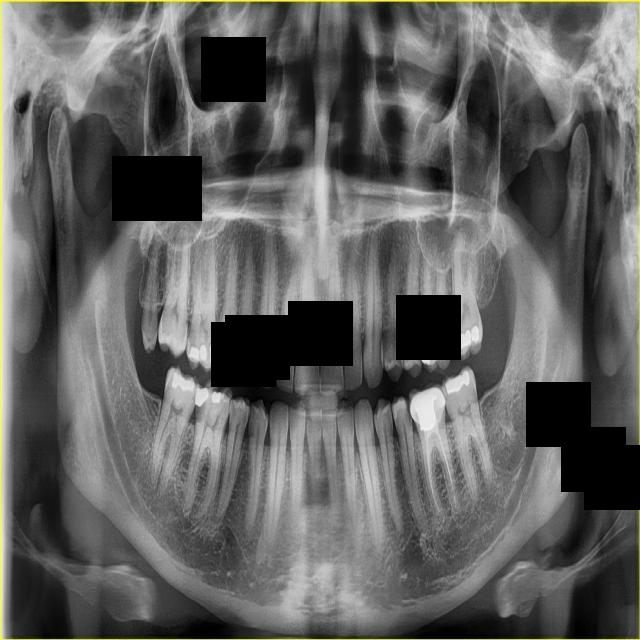74: (418, 421, 458, 513)
NucleOSS Implant: (412, 394, 444, 432), (442, 369, 473, 395), (427, 339, 452, 362), (170, 371, 196, 393), (191, 386, 210, 409), (455, 329, 472, 349), (209, 388, 225, 405), (209, 343, 219, 366), (419, 346, 430, 366), (189, 345, 199, 360), (471, 325, 479, 343), (199, 345, 207, 362)
Sterngold Implant: (402, 399, 413, 428), (247, 407, 257, 435), (194, 401, 205, 425), (186, 323, 195, 348), (240, 407, 249, 432), (230, 402, 237, 424), (445, 393, 450, 404)
Zimmer Implant: (407, 382, 448, 430)
